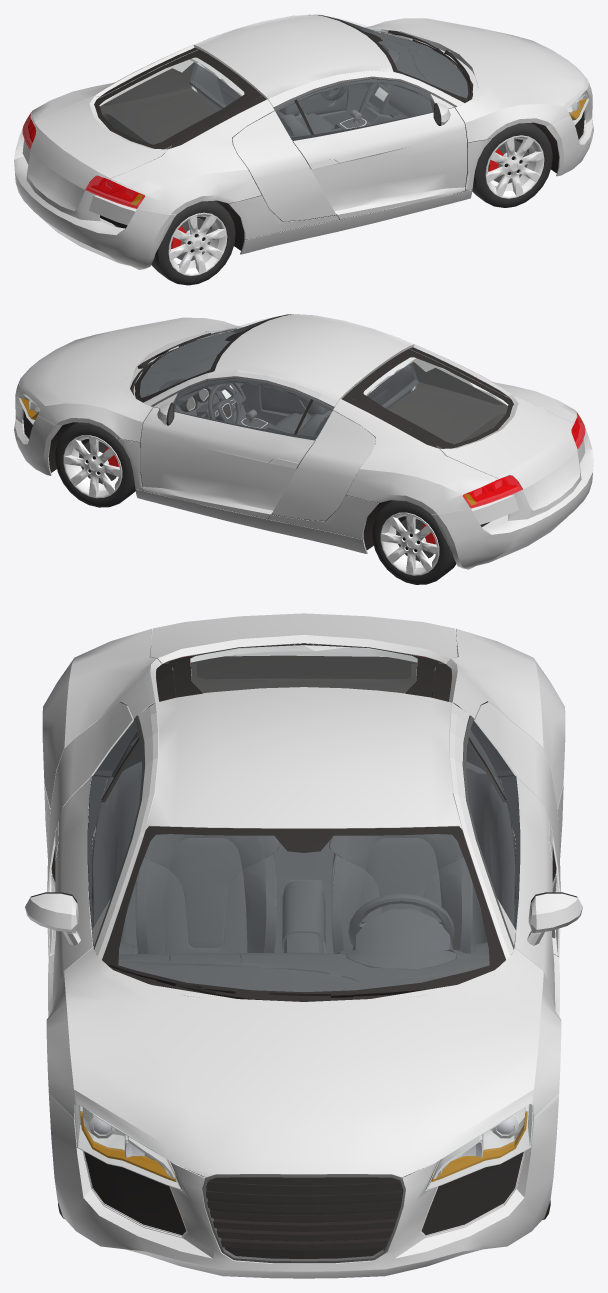
File: SEDAN21.obj
3 views of the same model, one above another, from view 1: azimuth 30°, elevation 25°; view 2: azimuth 150°, elevation 25°; view 3: azimuth 270°, elevation 25° (orthographic). The views are drawn at different scales.
Parts seen in each view (by area): view 1: 21; view 2: 21; view 3: 21.
Part boxes in pixels (<box>): 21: <box>14,14,593,285</box>; 21: <box>14,314,593,584</box>; 21: <box>25,613,582,1278</box>.
Size of the model in its own units: 4.45 by 1.27 by 2.02.
